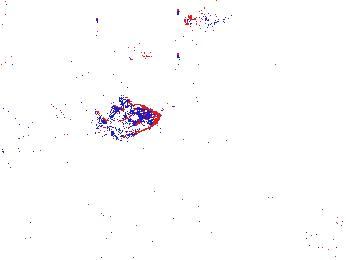X-ray fish: (90, 102, 163, 140)
red belly glassfish: (183, 10, 235, 30), (287, 41, 307, 62)
